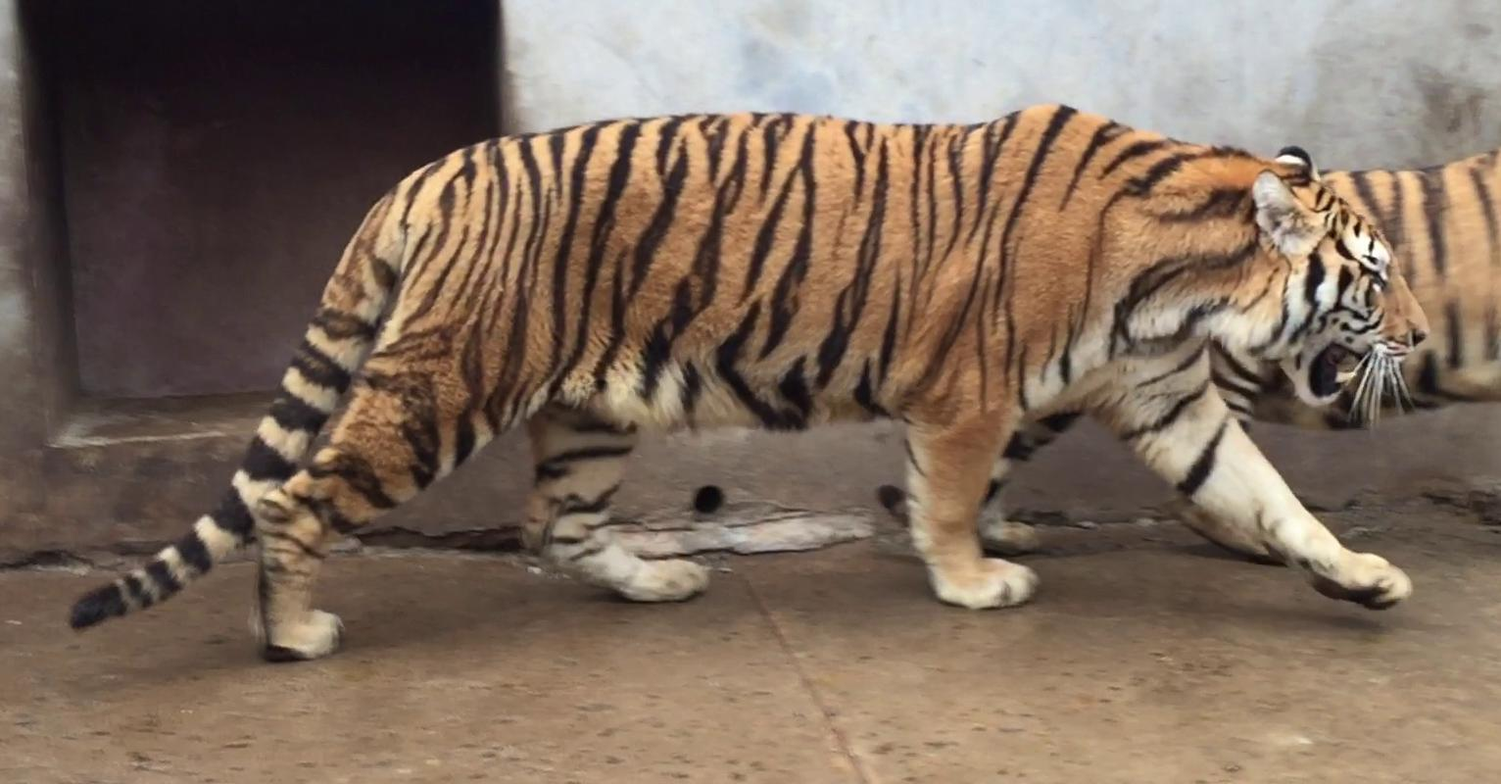tiger: (72, 106, 1500, 660)
